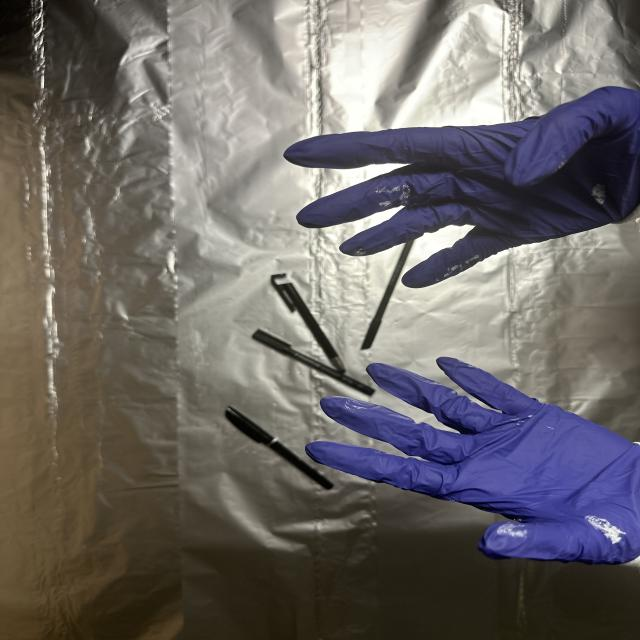gloves_contaminated: (284, 87, 640, 288), (306, 357, 640, 564)
